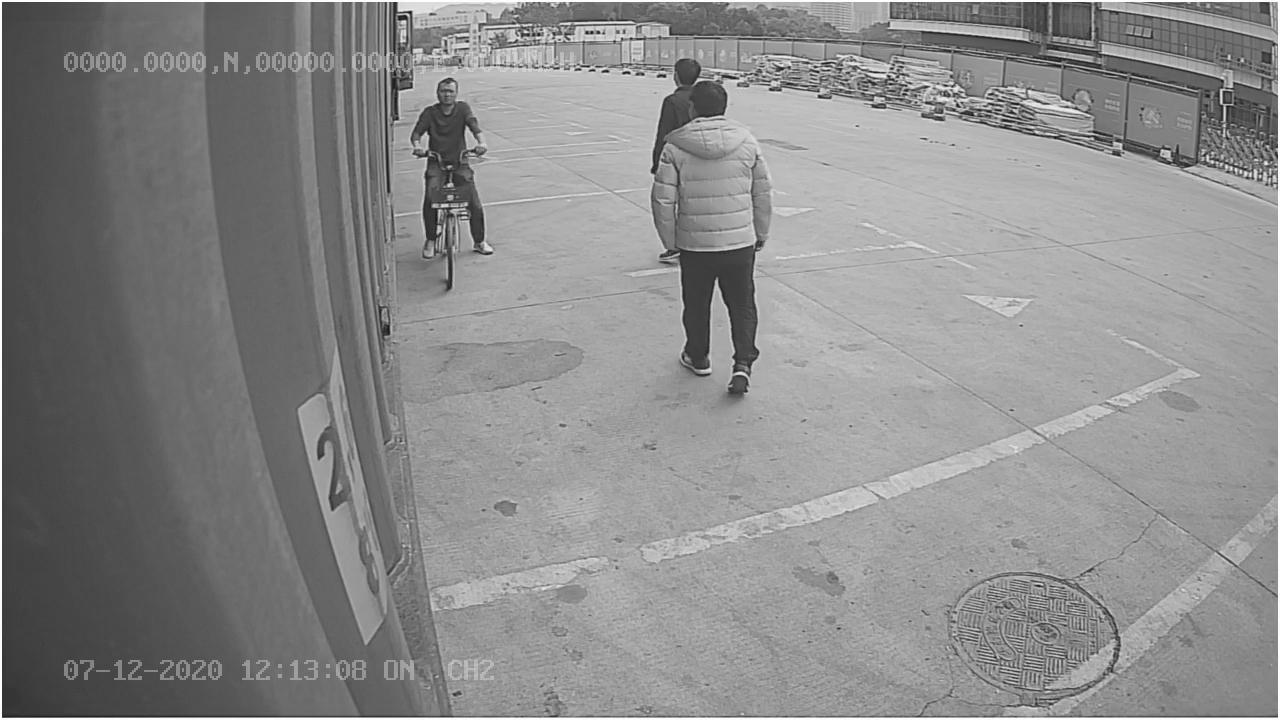person: (651, 80, 775, 402)
